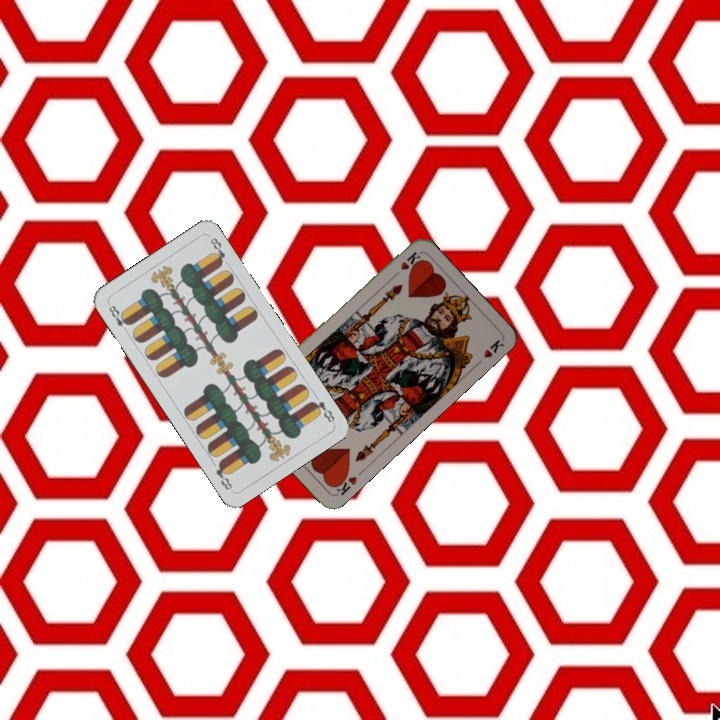E8: (104, 300, 133, 336), (306, 397, 337, 425)
HK: (389, 248, 423, 280), (329, 469, 359, 498)
